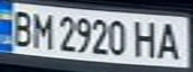0: (106, 17, 130, 57)
2: (54, 11, 75, 53), (90, 16, 112, 56)
9: (72, 14, 93, 54)
A: (154, 19, 187, 61)
B: (6, 7, 36, 47)
H: (130, 17, 163, 59)
M: (27, 9, 57, 50)
